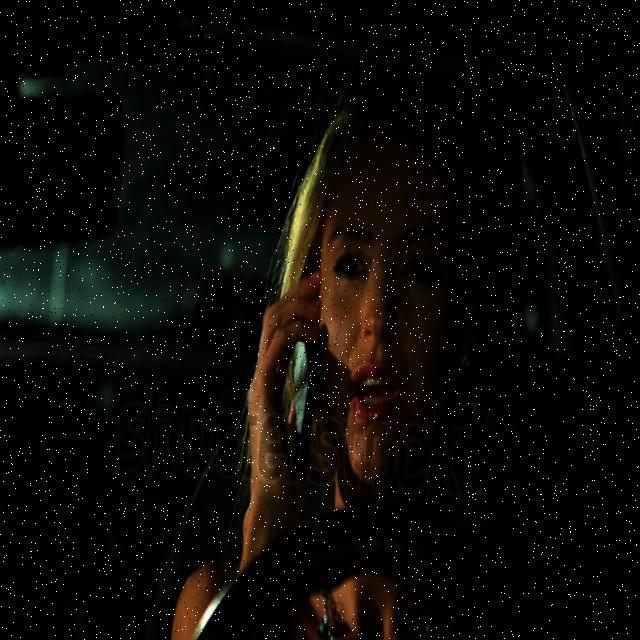PhoneCall: (274, 269, 331, 474)
